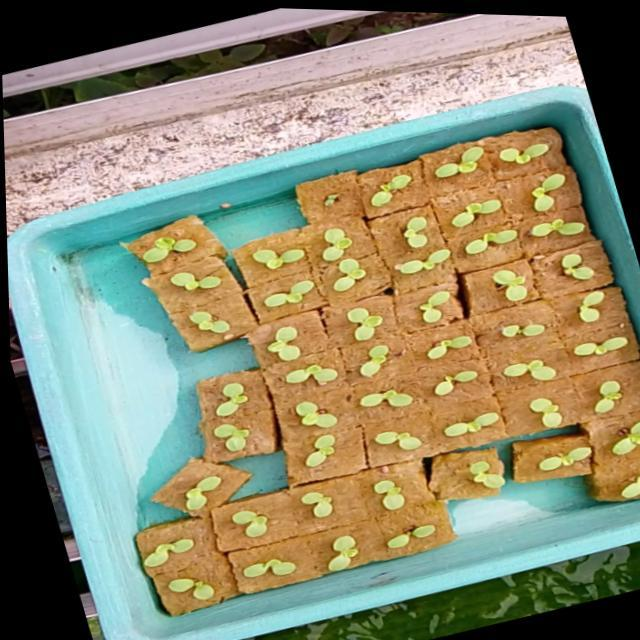Baby: (156, 570, 225, 607), (180, 466, 233, 514), (577, 378, 633, 423), (164, 536, 216, 575), (490, 311, 554, 341), (414, 288, 465, 324), (284, 359, 335, 394), (267, 280, 322, 310), (530, 211, 593, 237), (232, 557, 295, 583), (438, 145, 487, 177), (279, 402, 337, 429), (563, 242, 604, 280), (398, 247, 454, 274), (145, 239, 199, 266), (373, 174, 415, 206), (213, 425, 249, 462), (468, 229, 521, 254), (434, 370, 481, 397), (494, 268, 532, 301), (350, 308, 386, 342), (535, 173, 568, 210), (269, 327, 303, 362), (427, 335, 473, 360), (336, 258, 369, 292), (504, 360, 557, 381), (328, 535, 358, 572), (575, 337, 629, 357), (501, 143, 551, 164), (305, 435, 335, 470), (359, 345, 390, 378), (254, 247, 304, 267), (173, 274, 225, 293), (531, 398, 563, 428), (374, 481, 406, 511), (326, 230, 355, 263), (361, 390, 414, 408), (235, 510, 270, 537), (192, 312, 233, 335), (216, 383, 249, 411), (579, 290, 605, 322), (463, 199, 504, 219), (302, 493, 333, 519), (407, 215, 431, 247), (384, 432, 419, 450)
